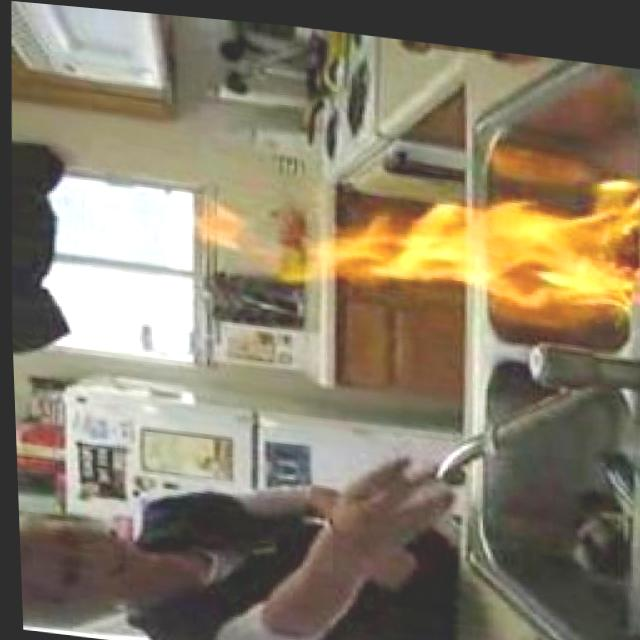Fire: (185, 146, 640, 338)
